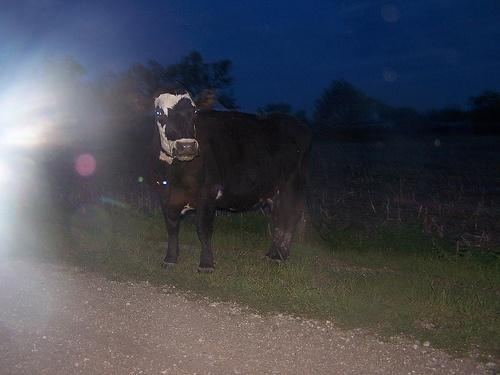cow: (149, 87, 321, 270)
